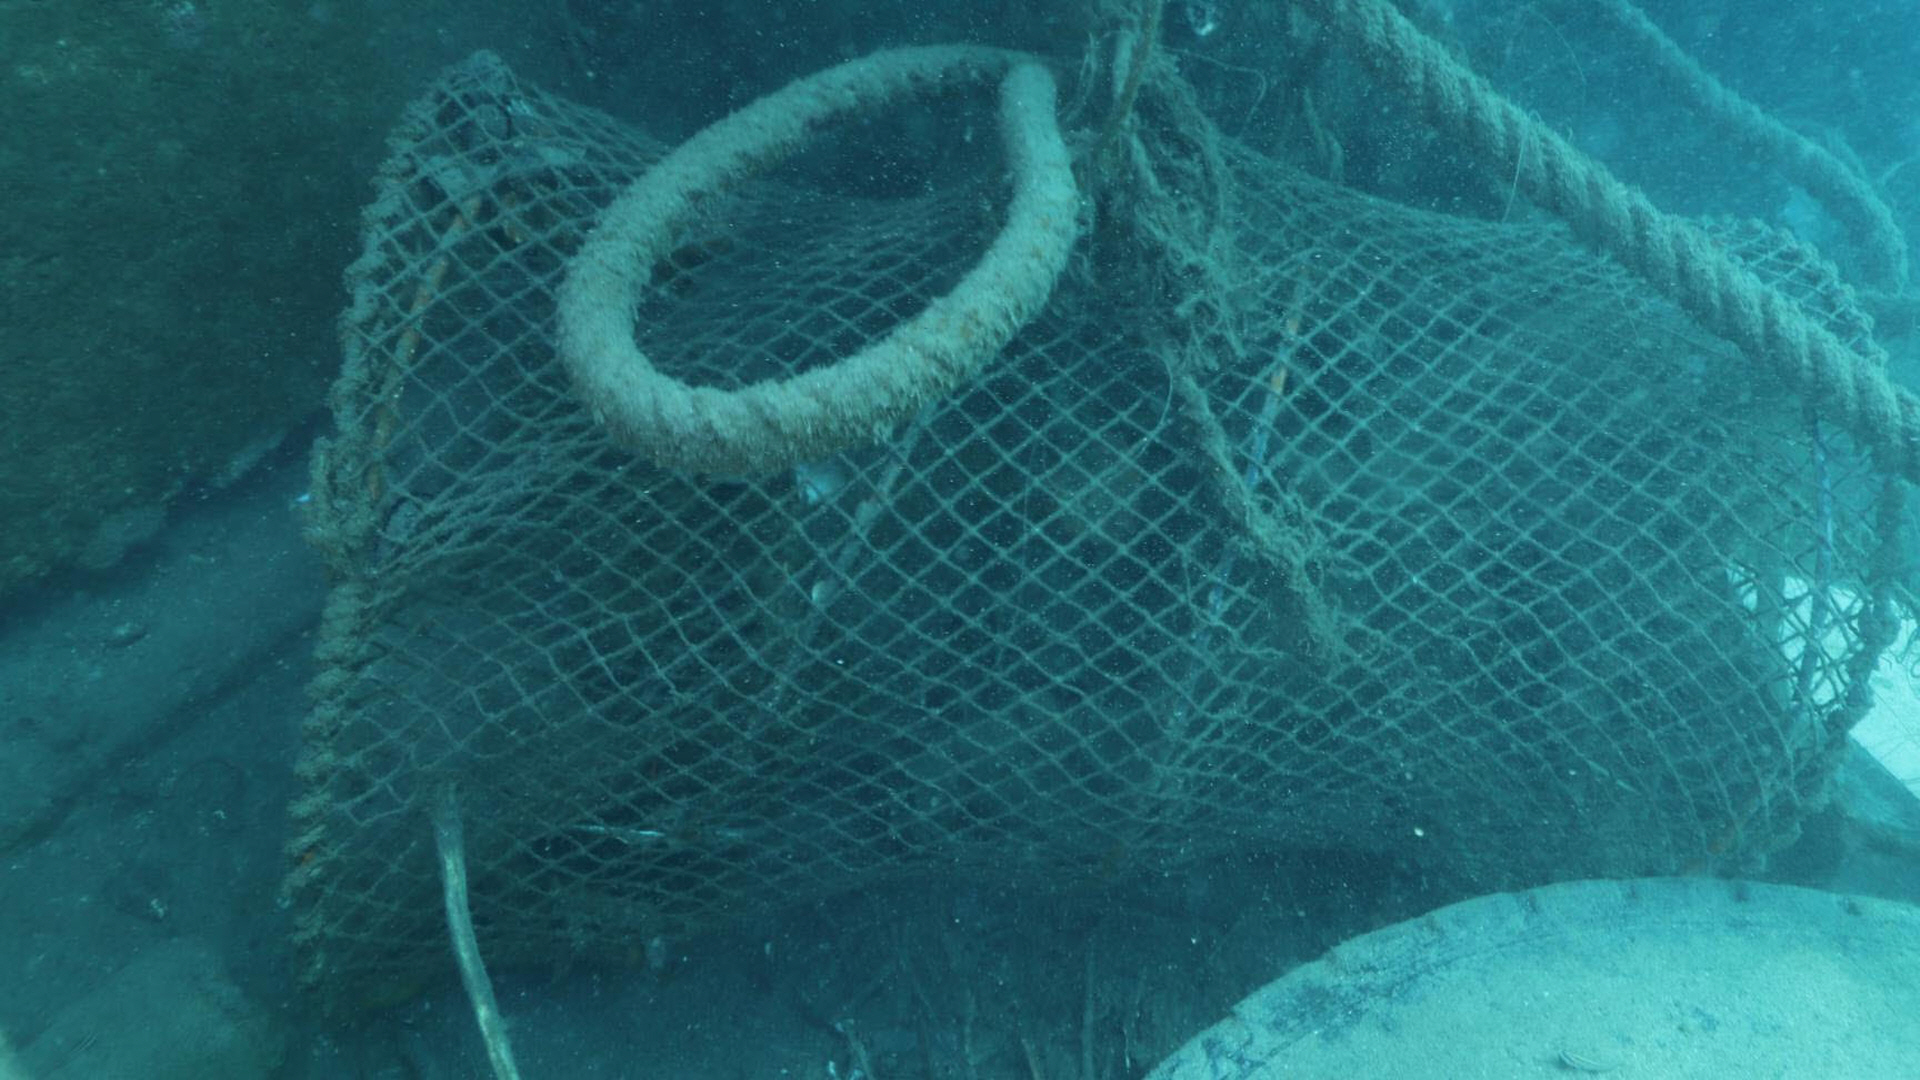rope: (560, 41, 1077, 473), (1578, 0, 1909, 287)
spring fish trap: (276, 53, 1909, 1033)
